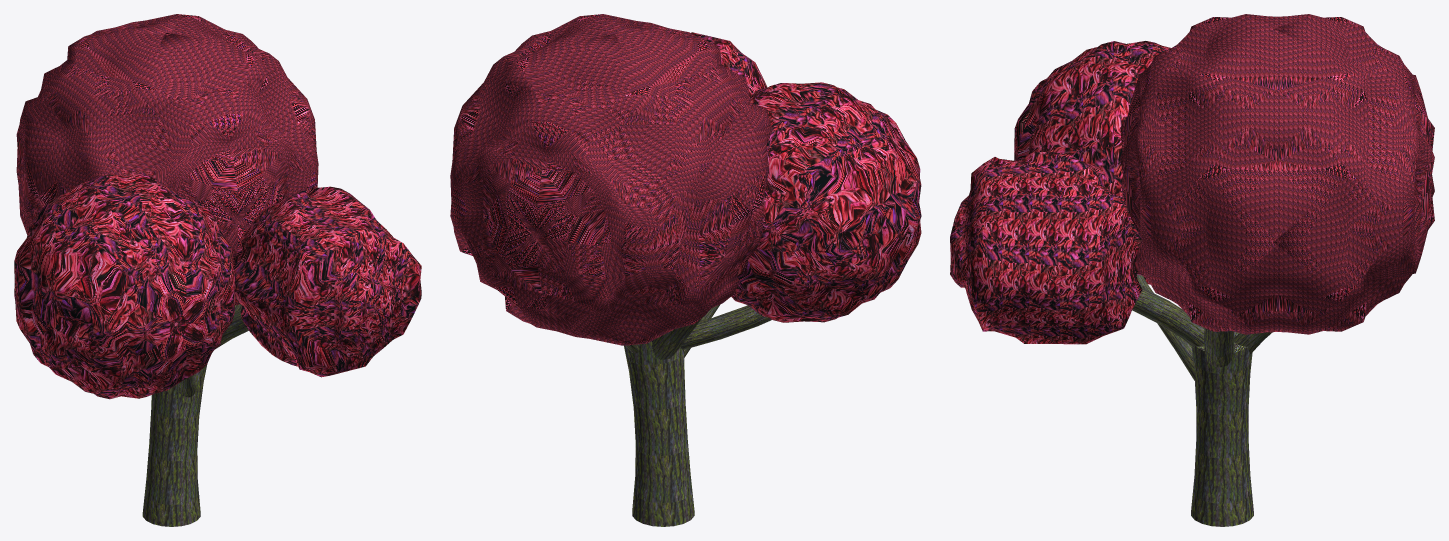
Rendered from bigtree.DAE.
The picture shows the model from 3 angles, left to right: view 1: azimuth 30°, elevation 25°; view 2: azimuth 150°, elevation 25°; view 3: azimuth 270°, elevation 25°; orthographic projection. The views are drawn at different scales.
Visible parts, largest first — view 1: Geosph_re001, Geosph_re002, Geosph_re003, Zylinder001; view 2: Geosph_re001, Geosph_re002, Zylinder001, Zylinder007, Geosph_re003, Zylinder004; view 3: Geosph_re001, Geosph_re003, Geosph_re002, Zylinder001, Zylinder006, Zylinder002, Zylinder005.
Boxes of the visible parts, x1,y1,x2,y2 form: Geosph_re001: (16,14,318,305); Geosph_re002: (14,173,234,399); Geosph_re003: (233,186,421,377); Zylinder001: (142,364,207,526); Geosph_re001: (450,14,772,345); Geosph_re002: (731,82,921,322); Zylinder001: (624,341,694,526); Zylinder007: (681,305,771,349); Geosph_re003: (691,32,767,96); Zylinder004: (651,318,701,359); Geosph_re001: (1120,14,1434,334); Geosph_re003: (950,152,1142,344); Geosph_re002: (1014,41,1170,284); Zylinder001: (1191,333,1253,526); Zylinder006: (1132,287,1204,347); Zylinder002: (1204,328,1234,367); Zylinder005: (1137,274,1195,380).
Size of the model in its own units: 170 by 196 by 221.
